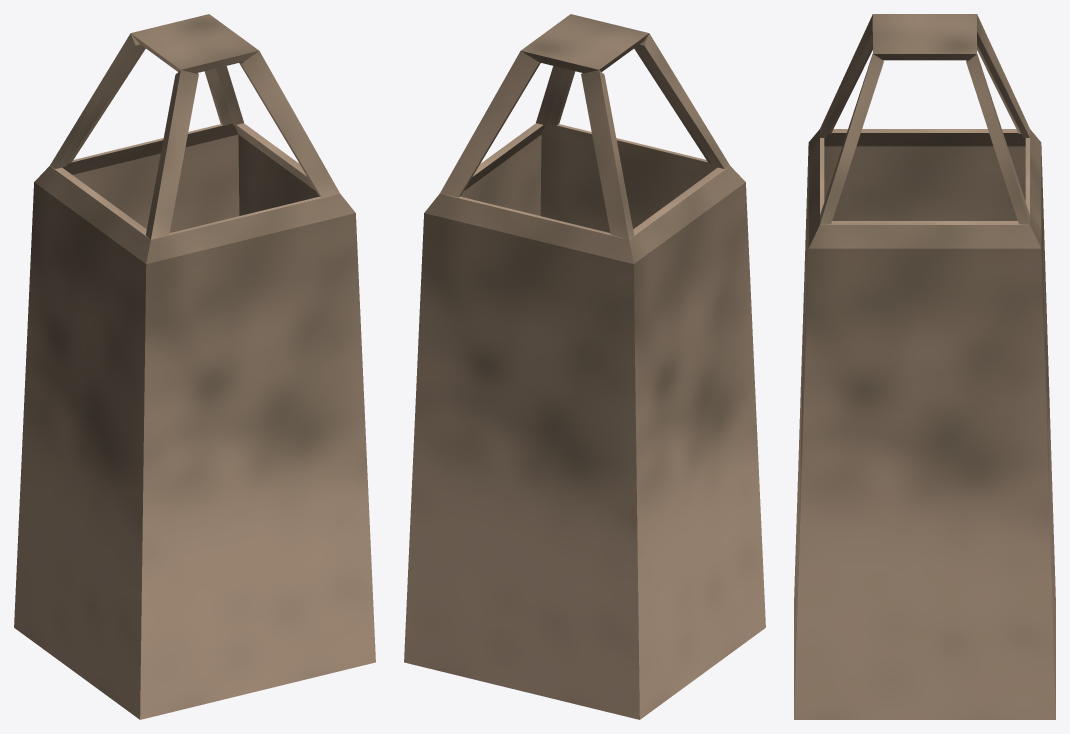
Rendered from baca.fbx.
The picture shows the model from 3 angles, left to right: view 1: azimuth 30°, elevation 25°; view 2: azimuth 150°, elevation 25°; view 3: azimuth 270°, elevation 25°; orthographic projection. The views are drawn at different scales.
Parts seen in each view (by area): view 1: baca; view 2: baca; view 3: baca.
Boxes of the visible parts, left/top/right/bottom form: baca: left=14, top=14, right=375, bottom=719; baca: left=404, top=14, right=765, bottom=719; baca: left=794, top=14, right=1055, bottom=719.
Bounding box in the file's own units: 78.25 × 191 × 72.45.
Materials: 1 (1 with a texture image).
